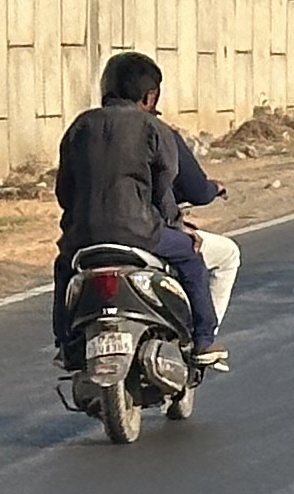BikeWithRider: (36, 44, 248, 448)
Helmet: (89, 47, 173, 116)
